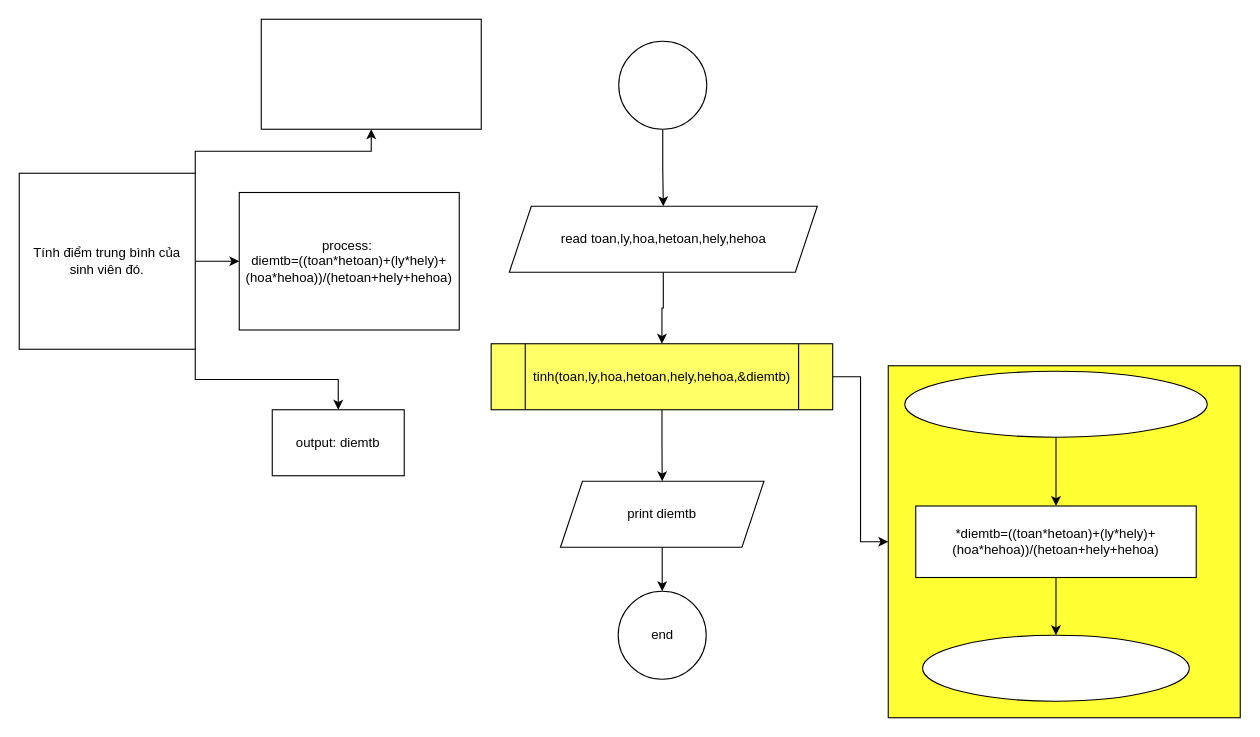
Some shapes in this 1260 by 737 pixel diagram are drawn without their labels. Here are the shapes that lost their labels. From the top down, the centre of each, then its label:
At point (370, 73): "input: toan,ly,hoa,hetoan,hely,hehoa".
At point (662, 84): "begin".
At point (1055, 403): "tinh(toan,ly,hoa,hetoan,hely,hehoa,*diemtb)".
At point (1055, 667): "return".
